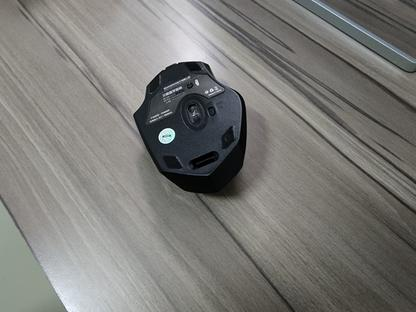mouse: (132, 60, 247, 194)
